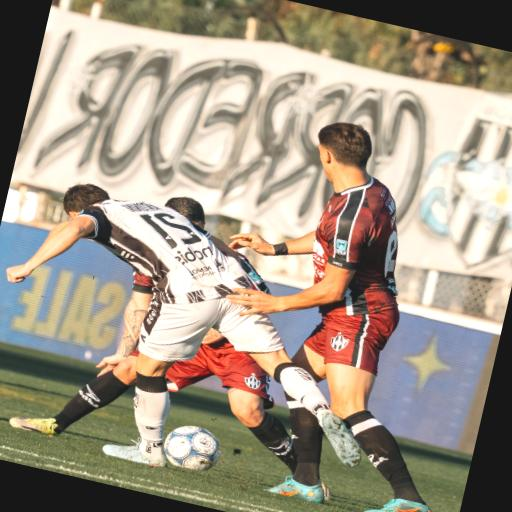shoe: (317, 410, 360, 466), (102, 439, 166, 467), (264, 476, 324, 503), (8, 417, 56, 435), (364, 499, 430, 511), (318, 481, 330, 500)
